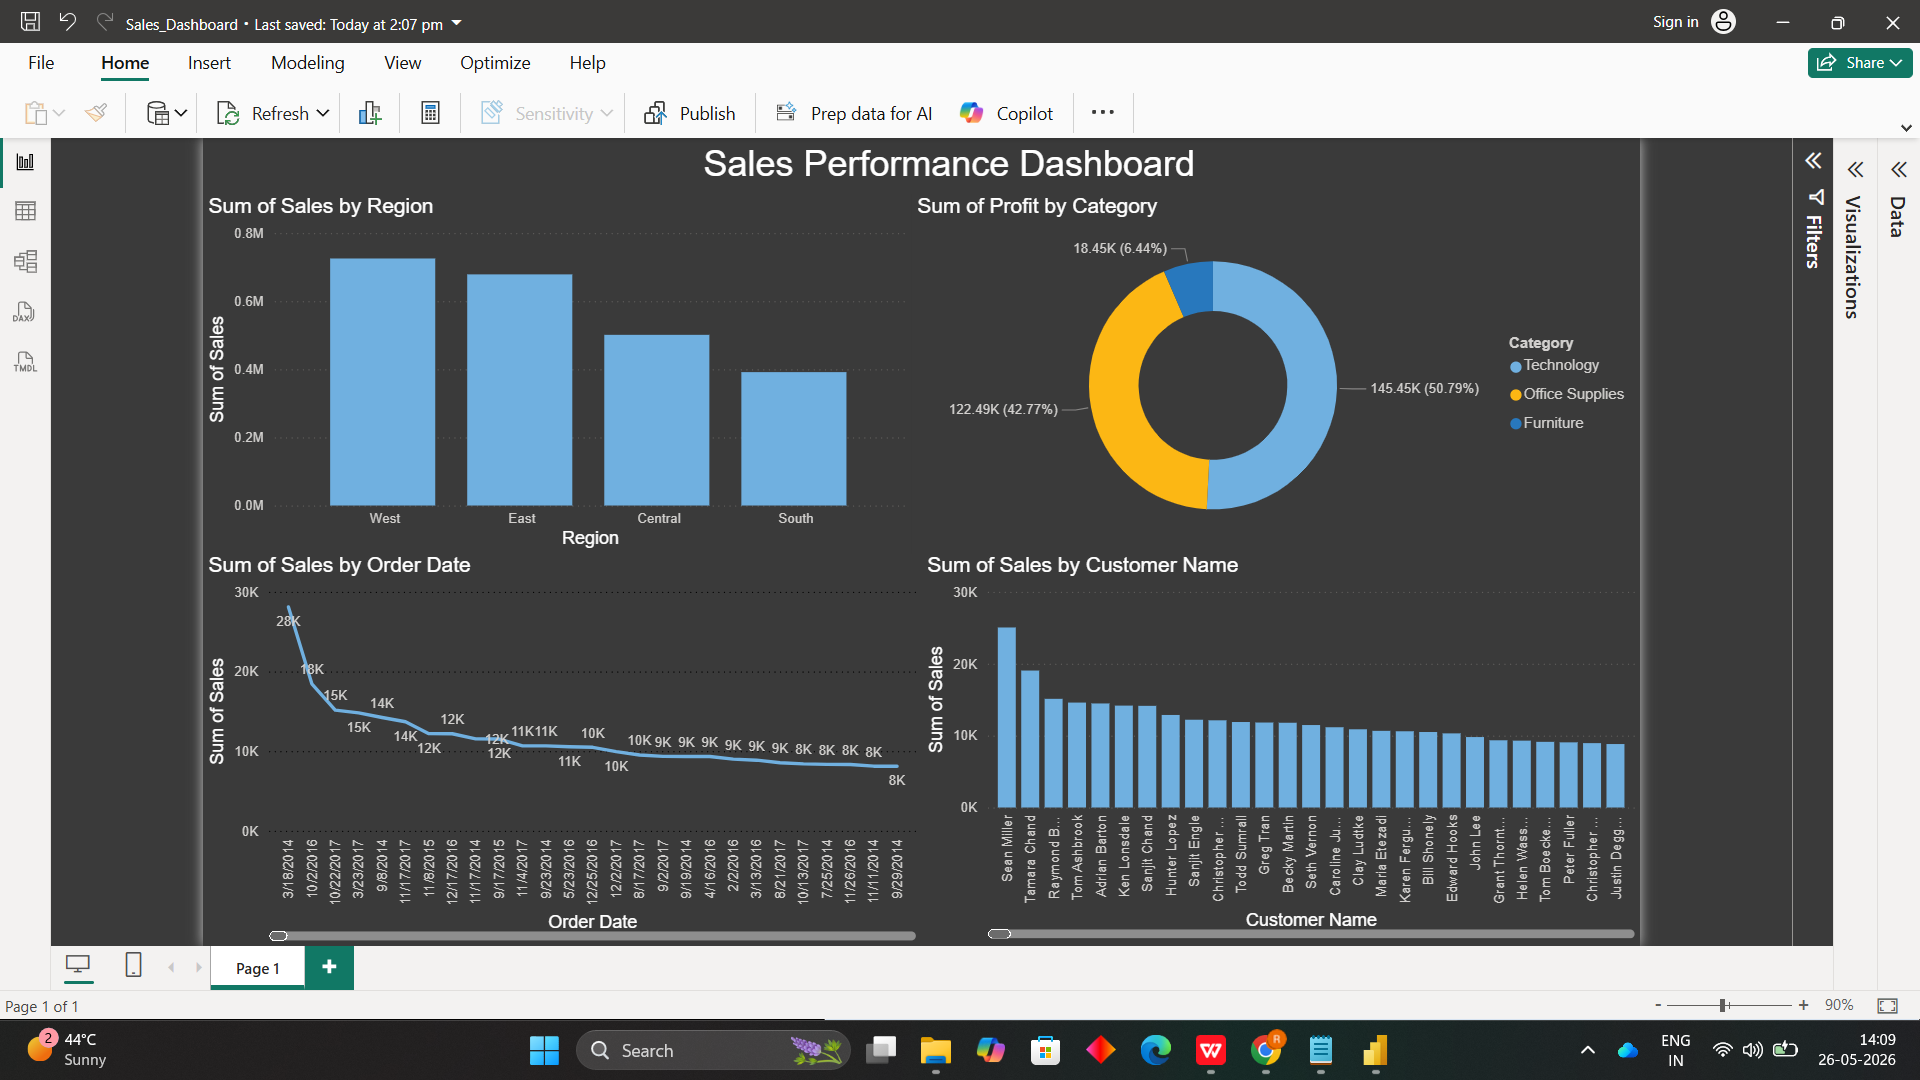

This screenshot's page, from the dashboard's own definition file:
{"tool":"powerbi","page":{"name":"Page 1","canvas":[1280,720],"ordinal":0},"visuals":[{"type":"clusteredColumnChart","fields":{"Category":["Sample - Superstore.Region"],"Y":["Sum(Sample - Superstore.Sales)"]},"box":[0,49.8,631.1,320],"z":0},{"type":"lineChart","fields":{"Category":["Sample - Superstore.Order Date"],"Y":["Sum(Sample - Superstore.Sales)"]},"box":[0,369.8,640,350.2],"z":1000},{"type":"donutChart","fields":{"Category":["Sample - Superstore.Category"],"Y":["Sum(Sample - Superstore.Profit)"]},"box":[631.1,49.8,648.9,320],"z":2000},{"type":"columnChart","fields":{"Category":["Sample - Superstore.Customer Name"],"Y":["Sum(Sample - Superstore.Sales)"]},"box":[640,369.8,640,348.4],"z":3000},{"type":"textbox","box":[440.4,0,628.8,50],"z":4000}]}

Visuals, with their boxes on the page's 1280x720 design canvas (x1, y1, x2, y2). These are canvas units, not pixel positions in the 1920x1080 screenshot, which may show the page scaled, cropped or inside an application window:
clusteredColumnChart - Sample - Superstore.Region x Sum(Sample - Superstore.Sales): BBox(0, 50, 631, 370)
lineChart - Sample - Superstore.Order Date x Sum(Sample - Superstore.Sales): BBox(0, 370, 640, 720)
donutChart - Sample - Superstore.Category x Sum(Sample - Superstore.Profit): BBox(631, 50, 1280, 370)
columnChart - Sample - Superstore.Customer Name x Sum(Sample - Superstore.Sales): BBox(640, 370, 1280, 718)
textbox: BBox(440, 0, 1069, 50)
